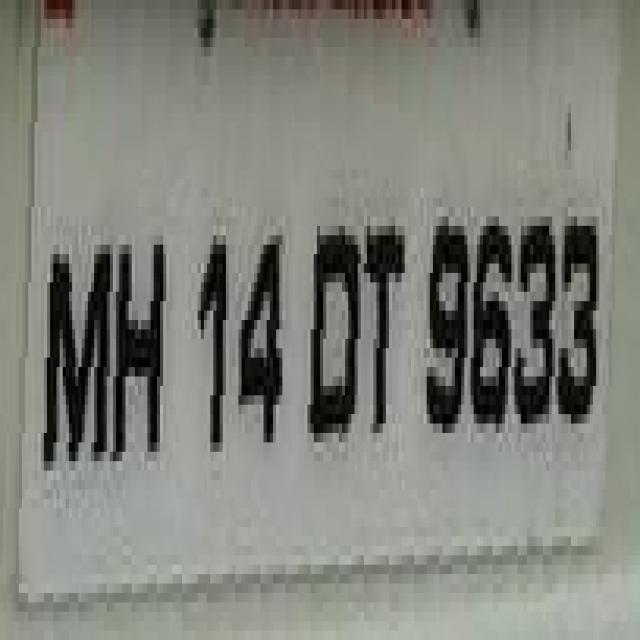license_plate: (19, 38, 640, 574)
